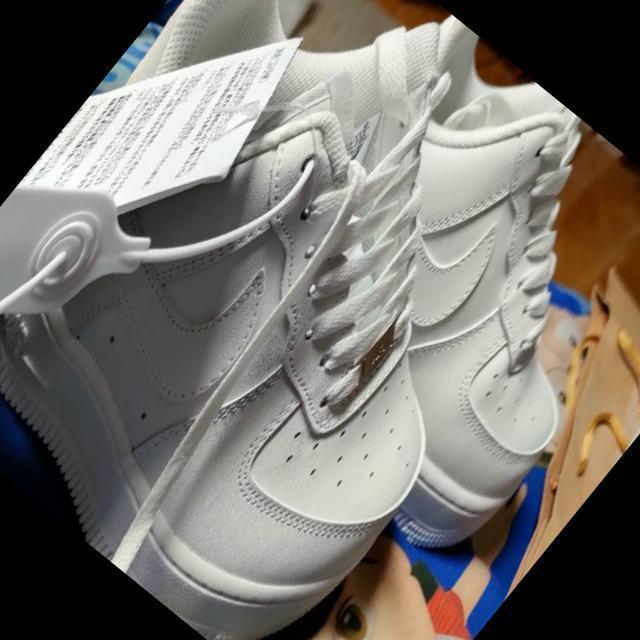nike fake air force: (0, 0, 640, 640), (176, 12, 640, 568)
